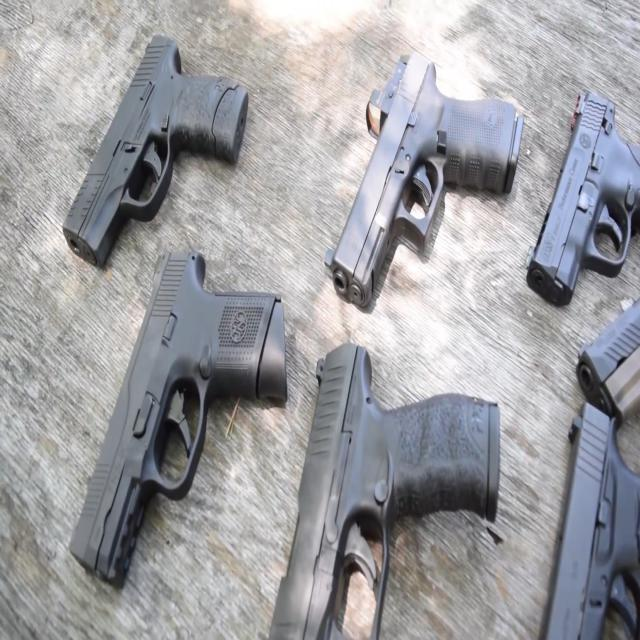handgun: (246, 319, 521, 639), (57, 234, 290, 580), (52, 14, 261, 311), (317, 48, 528, 306), (524, 77, 640, 305), (534, 409, 640, 639)
